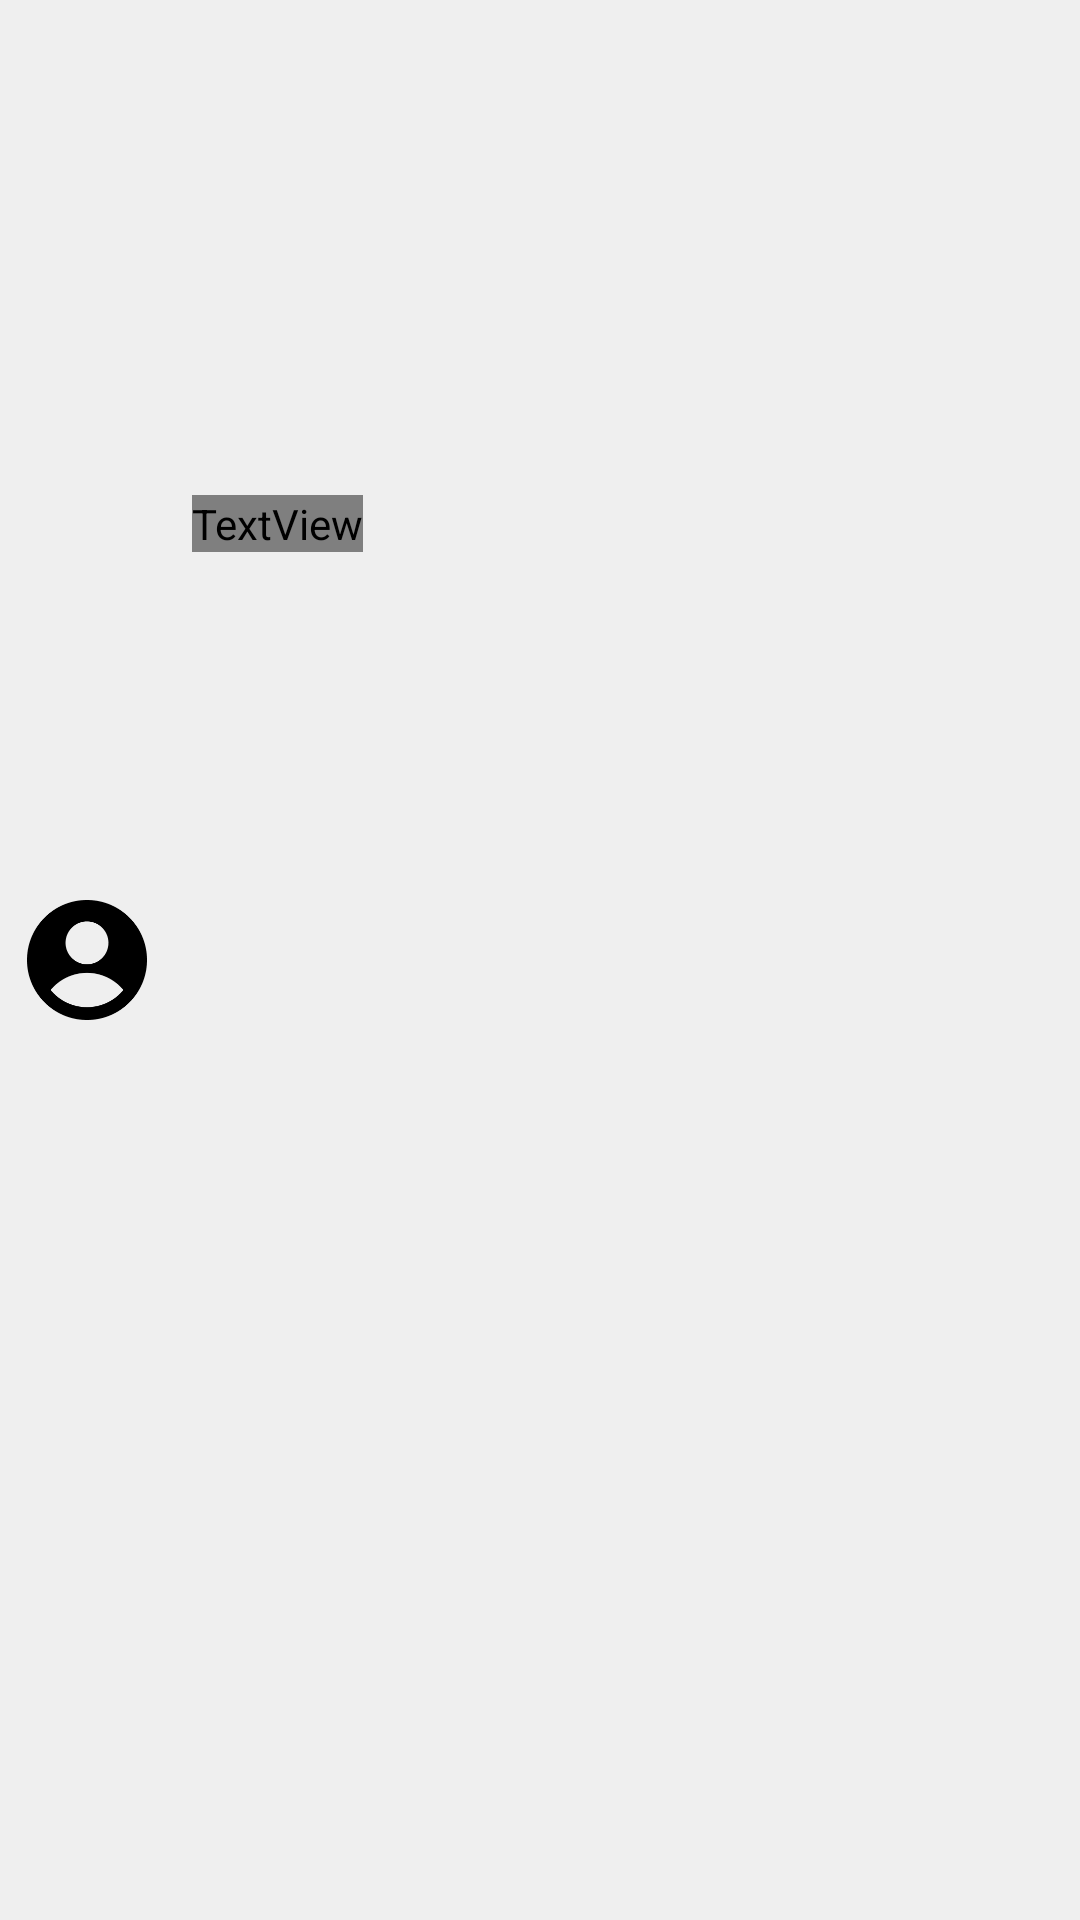

Locate icon controls on the screen. Image size 1080px x 1920px, boxes as (x1, y1, x2, y2).
user: (27, 900, 147, 1020)
